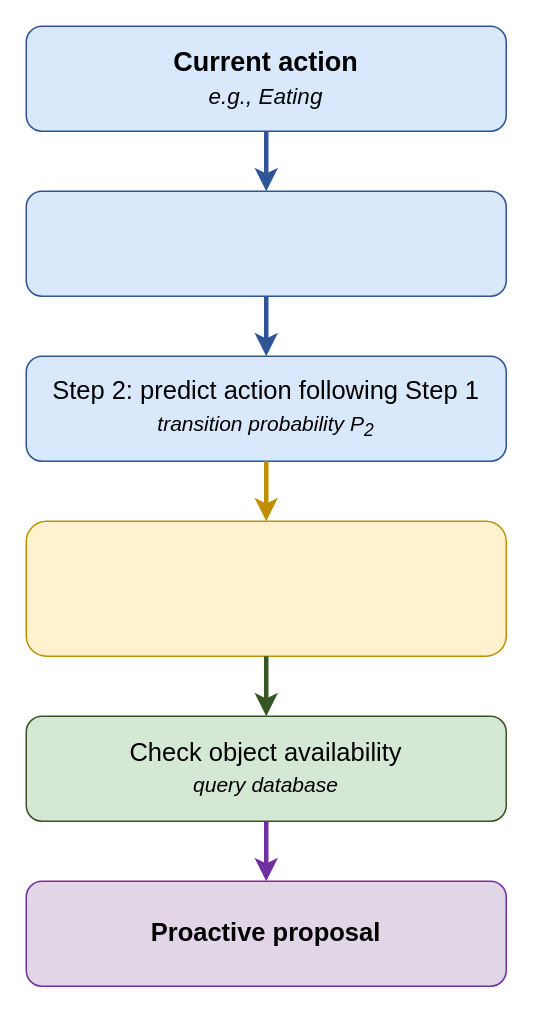
Image size: 533x1013. Some labels were removed from this diagram. Each missing label, with the box of its shape:
Infer service need confidence = P 1 × P 2 (Eq. 3.1) confidence ≥ threshold: (25, 520, 506, 656)
Step 1: predict next action transition probability P 1: (25, 190, 506, 296)
